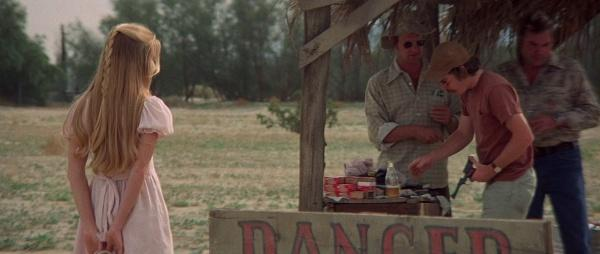Gun: (452, 155, 477, 200)
